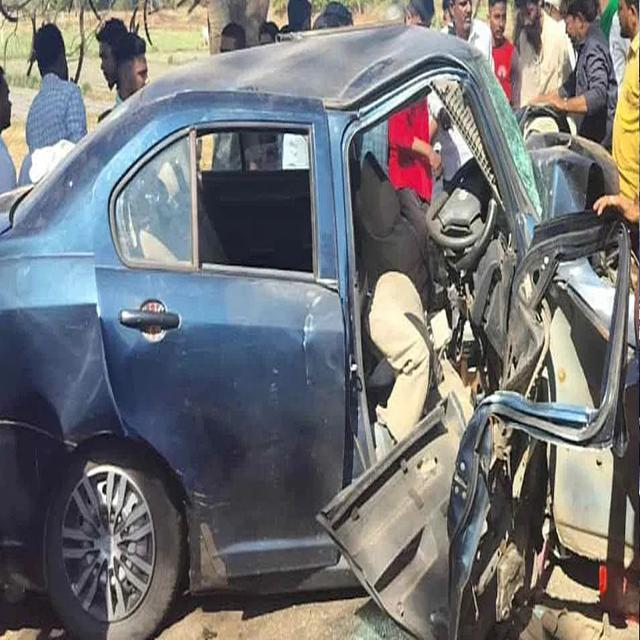accident: (0, 27, 640, 638)
